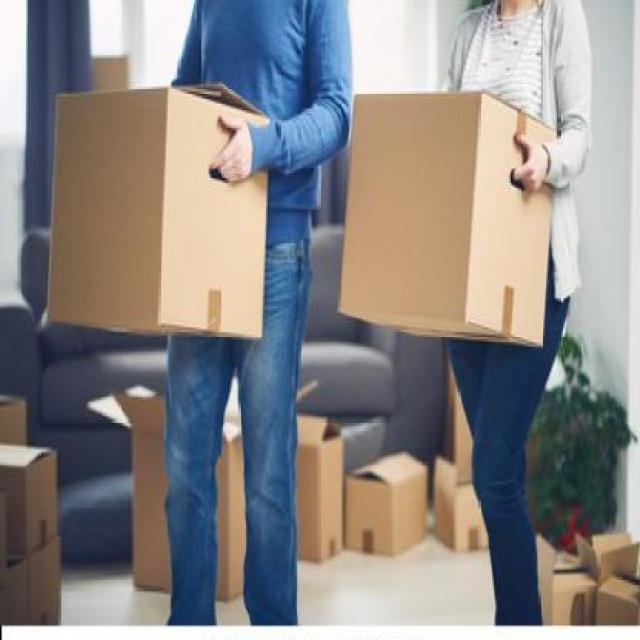box: (326, 58, 576, 404), (29, 68, 291, 379)
